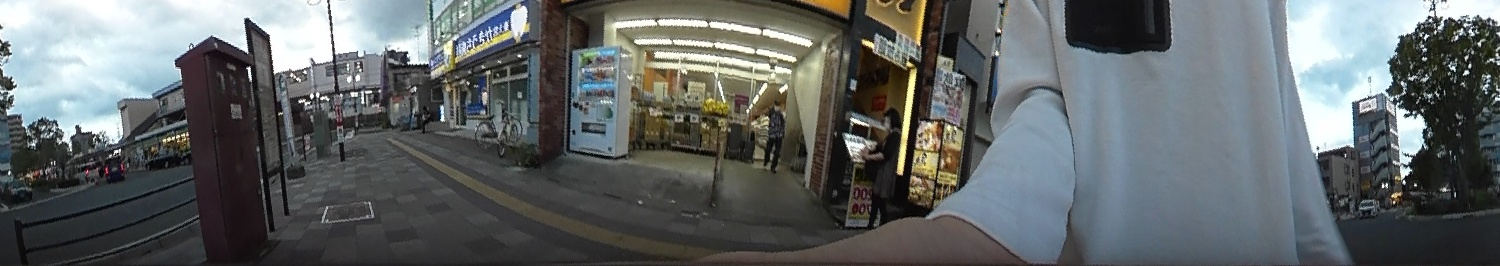person: (859, 101, 903, 223), (764, 97, 787, 173)
